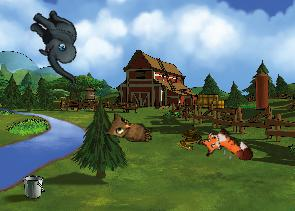elephant: (13, 3, 101, 86)
fox: (194, 119, 256, 178)
owl: (105, 112, 153, 142)
